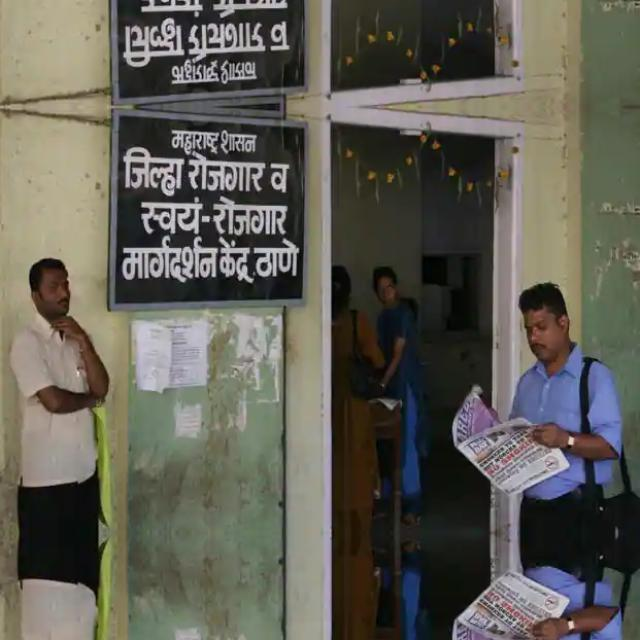person: (18, 230, 132, 370), (488, 271, 590, 374)
